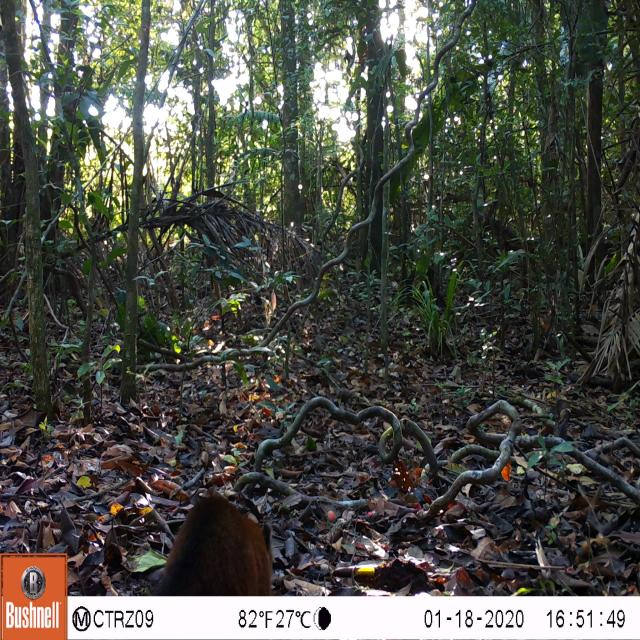South American Coati: (150, 483, 281, 600)
